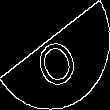O_NW: (28, 22, 82, 88)
